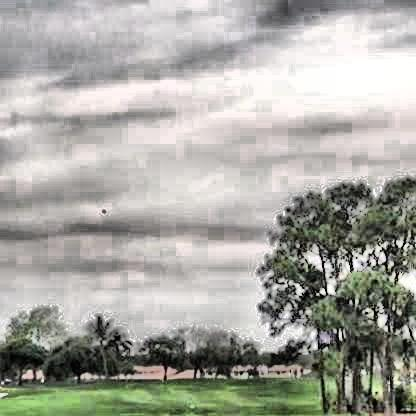golfball: (98, 206, 103, 211)
